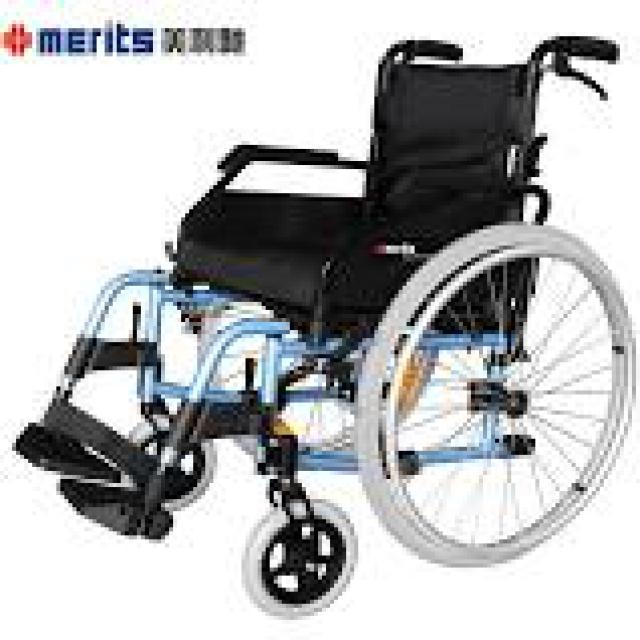wheelchair: (16, 36, 636, 636)
